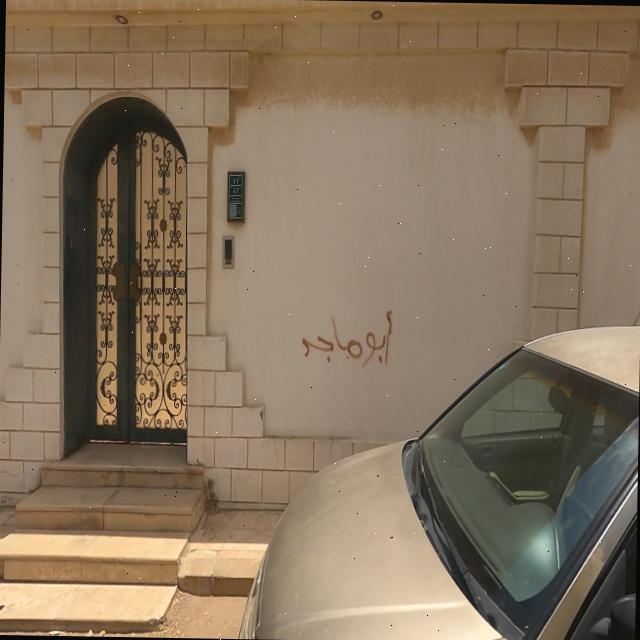Graffiti: (302, 307, 395, 366)
